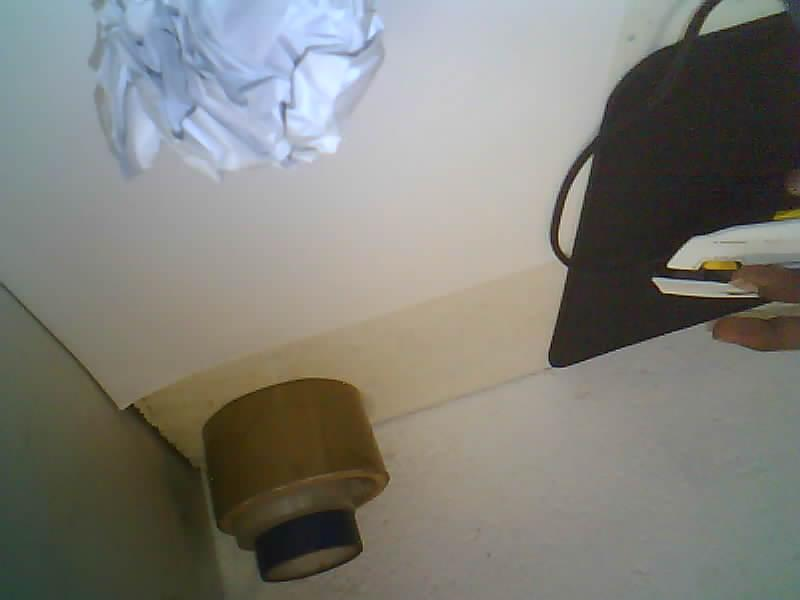biodegradable: (96, 0, 382, 177)
